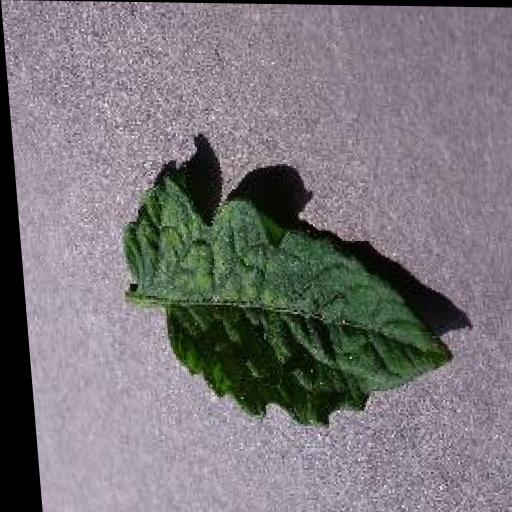Mosaic Virus: (109, 169, 454, 430)
